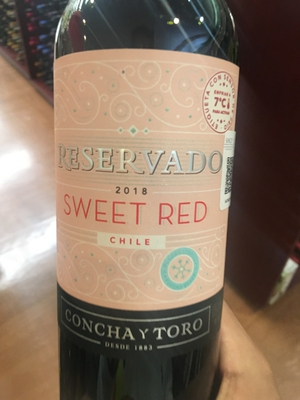reservado sweet red: (44, 11, 249, 396)
